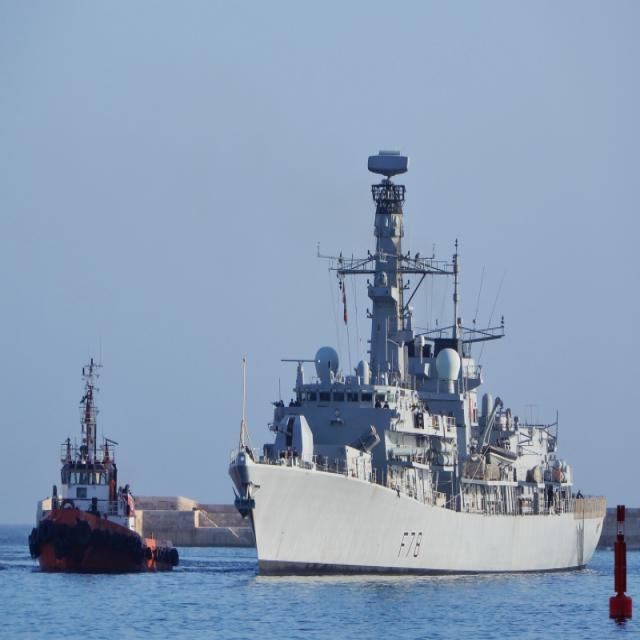Fragata: (228, 135, 611, 584)
